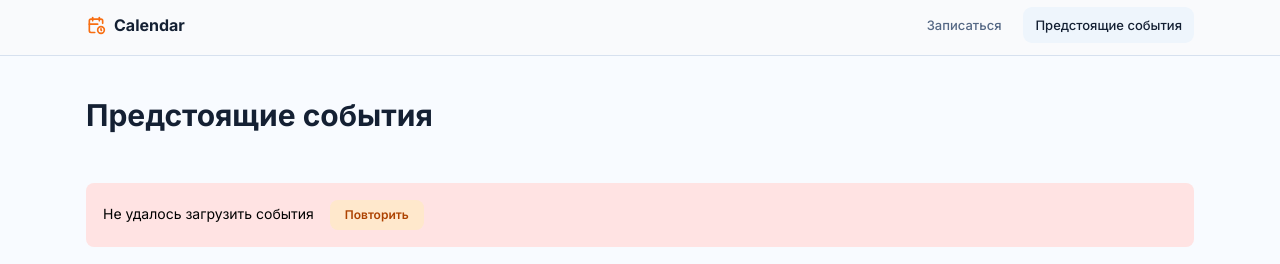
Test: calendar pages › lets visitors retry when upcoming events fail to load
Expected: the text "Не удалось загрузить события" is shown, [103,205,318,222]
Click the button "Повторить".
click(377, 215)  # box [330,200,424,230]
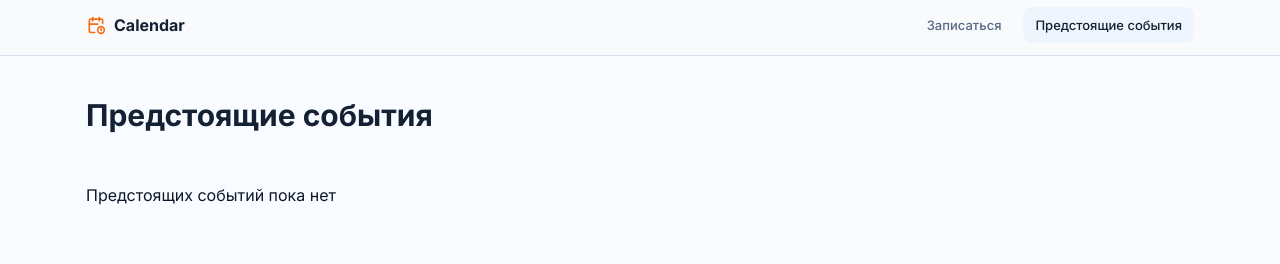
Expected: the text "Предстоящих событий пока нет" is shown, [86,185,336,205]
